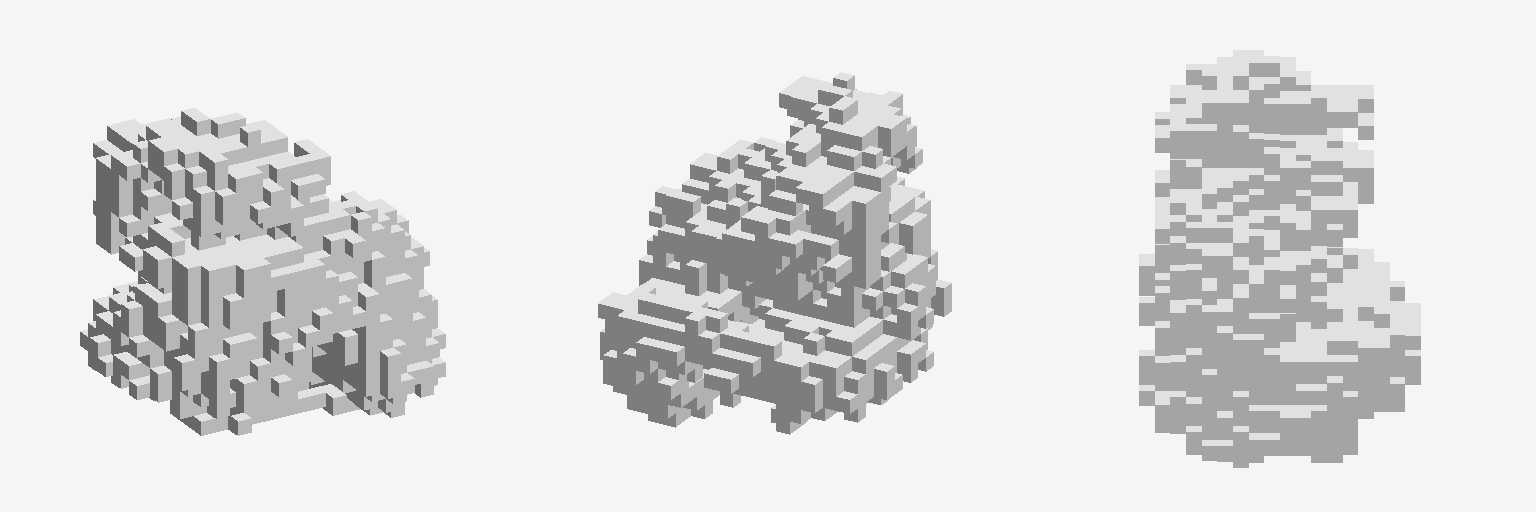
The model's file is plutonAsteroide.obj.
3 renders of one model, left to right at view 1: azimuth 30°, elevation 25°; view 2: azimuth 150°, elevation 25°; view 3: azimuth 270°, elevation 25°, orthographic.
Parts seen in each view (by area): view 1: plutonAsteroide; view 2: plutonAsteroide; view 3: plutonAsteroide.
Part boxes in pixels (x1,y1,x2,y2): plutonAsteroide: (80,108,445,435); plutonAsteroide: (598,72,951,434); plutonAsteroide: (1139,50,1420,467).
Size of the model in its own units: 21 by 23 by 18.